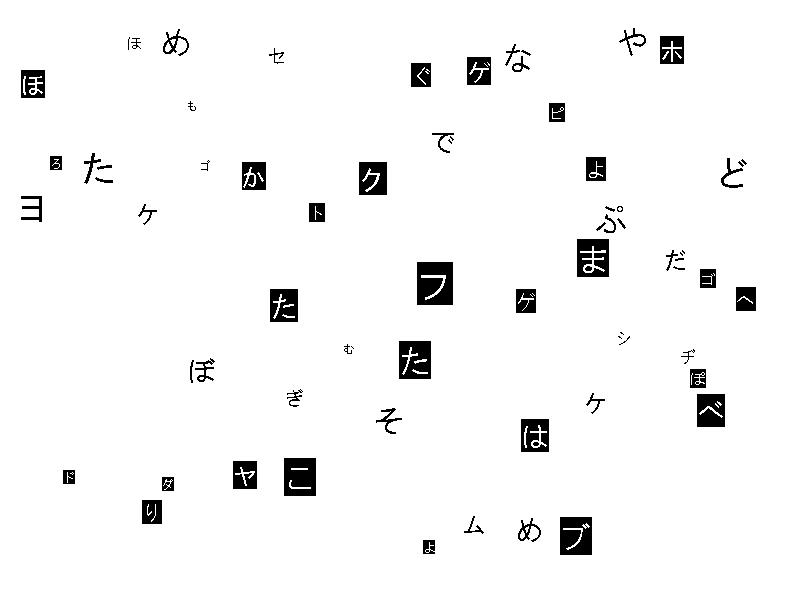japanese_100: (700, 269, 716, 288), (199, 158, 211, 172)
japanese_11: (242, 162, 266, 190)
japanese_111: (663, 245, 687, 273)
japanese_112: (162, 477, 174, 491)
japanese_114: (680, 347, 696, 366)
japanese_117: (429, 124, 457, 157)
japanese_119: (715, 150, 751, 193)
japanese_120: (63, 470, 75, 484)
japanese_126: (560, 517, 592, 555)
japanese_127: (697, 394, 725, 427)
japanese_129: (188, 353, 216, 386)
japanese_134: (549, 103, 565, 122)
japanese_135: (595, 199, 627, 237)
japanese_139: (690, 369, 706, 388)
japanese_16: (359, 162, 387, 195)
japanese_18: (136, 199, 160, 227), (584, 388, 608, 416)
japanese_19: (284, 458, 316, 496)
japanese_24: (616, 328, 632, 347)
japanese_28: (267, 43, 287, 67)
japanese_29: (374, 400, 406, 438)
japanese_31: (80, 145, 116, 188), (399, 341, 431, 379), (270, 289, 298, 322)
japanese_40: (309, 203, 325, 222)
japanese_41: (502, 38, 534, 76)
japanese_51: (521, 419, 549, 452)
japanese_56: (417, 262, 453, 305)
japanese_57: (736, 287, 756, 311)
japanese_59: (21, 70, 45, 98), (127, 33, 143, 52)
japanese_60: (660, 36, 684, 64)
japanese_61: (577, 239, 609, 277)
japanese_65: (343, 341, 355, 355)
japanese_66: (462, 510, 486, 538)
japanese_67: (160, 22, 192, 60), (515, 512, 543, 545)
japanese_69: (186, 98, 198, 112)
japanese_71: (617, 21, 649, 59)
japanese_72: (233, 461, 257, 489)
japanese_75: (586, 157, 606, 181), (423, 540, 435, 554)
japanese_76: (14, 185, 50, 228)
japanese_79: (142, 500, 162, 524)
japanese_85: (50, 156, 62, 170)
japanese_93: (285, 385, 305, 409)
japanese_95: (411, 63, 431, 87)
japanese_98: (467, 57, 491, 85), (516, 289, 536, 313)
